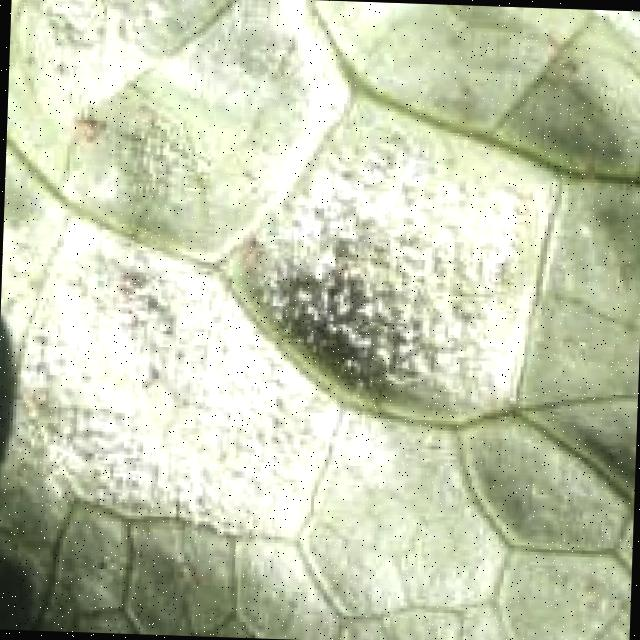Powdery_mildew_on_lettuce: (51, 147, 438, 550)
